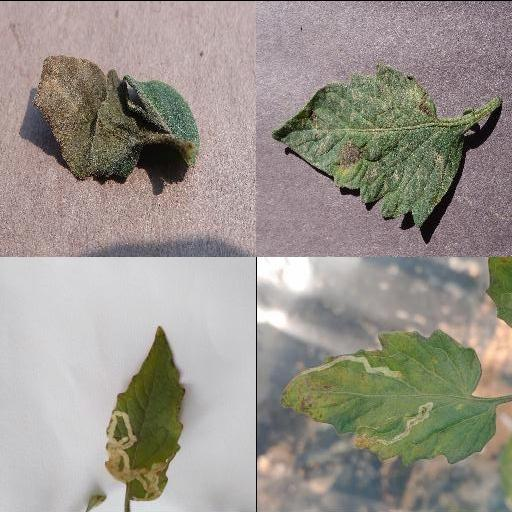Early Blight: (269, 66, 461, 228)
Late Blight: (33, 52, 201, 184)
Leaf Miner: (279, 326, 497, 468), (102, 327, 188, 501)
